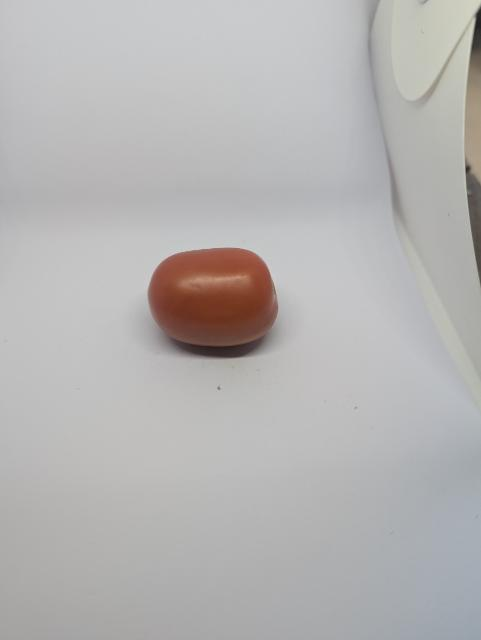red: (147, 244, 285, 367)
